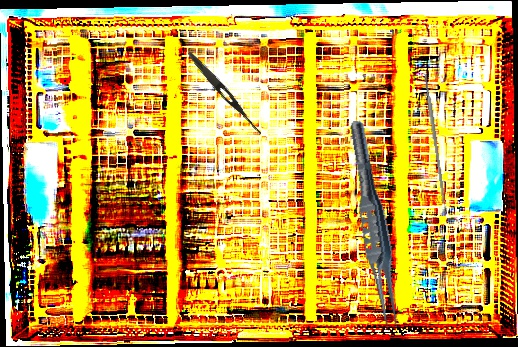Dressing Forceps: (185, 49, 265, 137)
Scalpel Handle: (423, 72, 447, 205)
Tissue Forceps: (339, 118, 409, 335)
